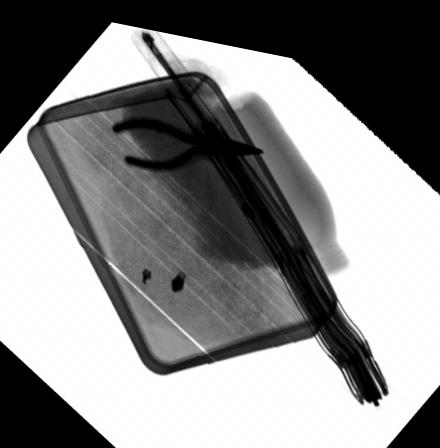Pliers: (109, 111, 265, 165)
